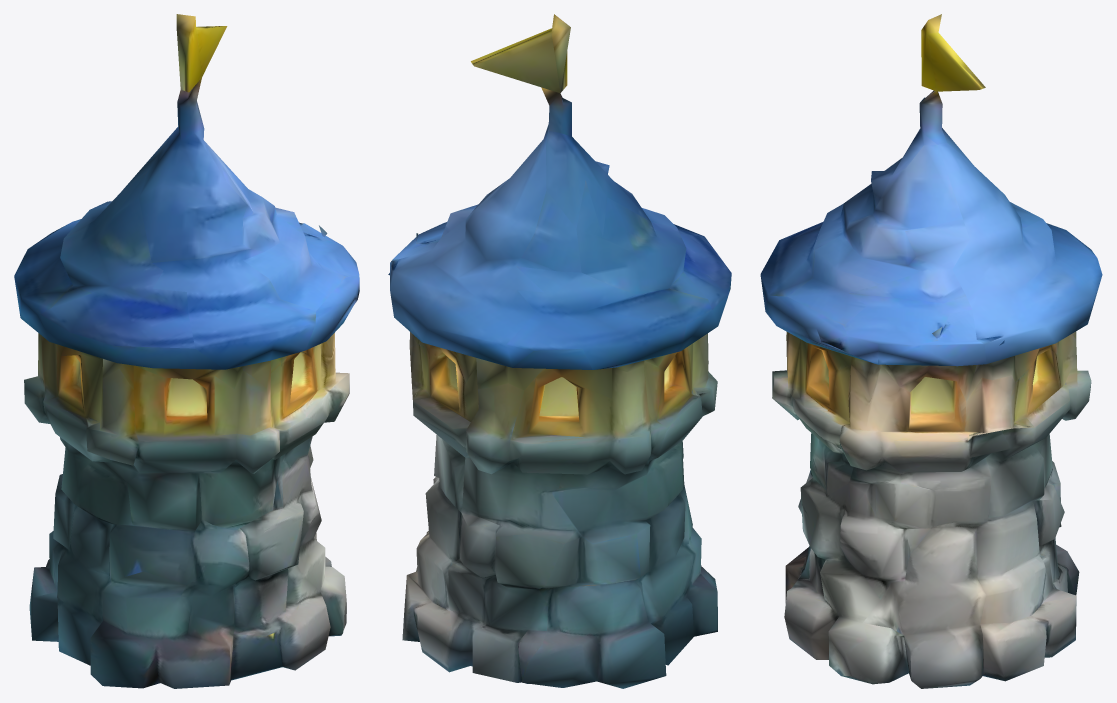
Rendered from tower.glb.
3 views of the same model, side by side, from view 1: azimuth 30°, elevation 25°; view 2: azimuth 150°, elevation 25°; view 3: azimuth 270°, elevation 25° (orthographic).
Visible parts, largest first — view 1: tripo_node_6c628539-8ffb-40a2-9ac0-0544b9cf3eec; view 2: tripo_node_6c628539-8ffb-40a2-9ac0-0544b9cf3eec; view 3: tripo_node_6c628539-8ffb-40a2-9ac0-0544b9cf3eec.
Part boxes in pixels (left/top/right/bottom): tripo_node_6c628539-8ffb-40a2-9ac0-0544b9cf3eec: left=14, top=14, right=359, bottom=688; tripo_node_6c628539-8ffb-40a2-9ac0-0544b9cf3eec: left=388, top=14, right=731, bottom=688; tripo_node_6c628539-8ffb-40a2-9ac0-0544b9cf3eec: left=760, top=14, right=1102, bottom=688.
Size of the model in its own units: 0.4948 by 0.9756 by 0.496.
1 material, 1 textured.
